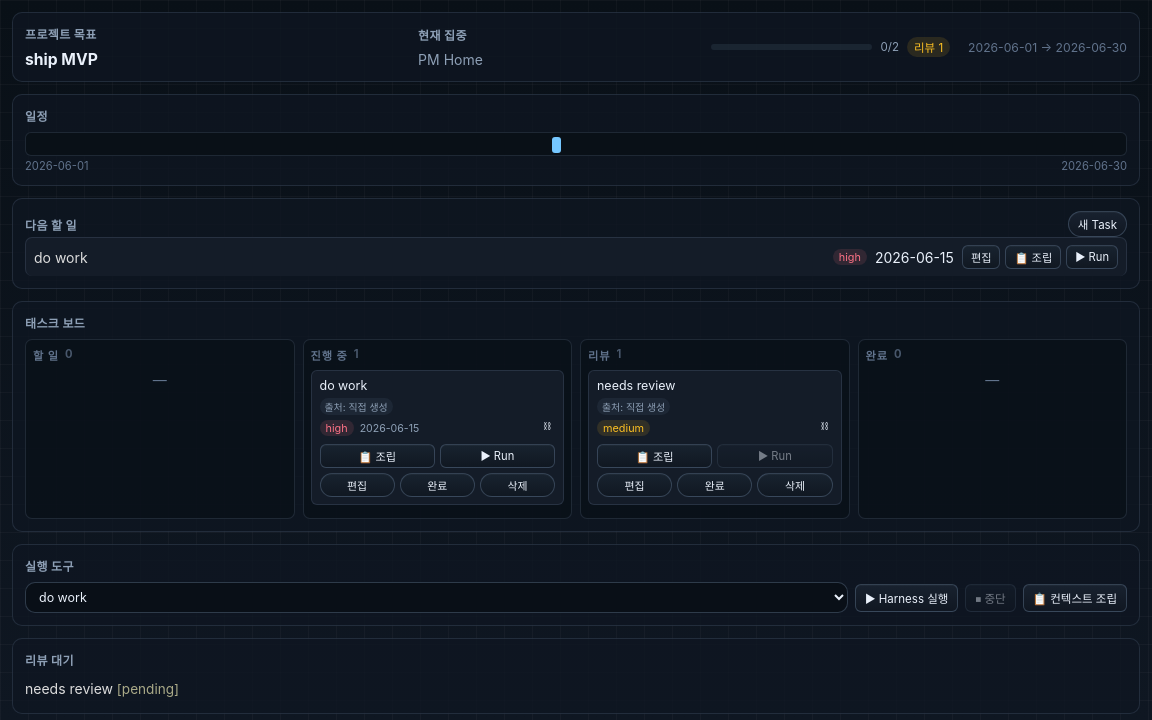
Test case: PmHome › composes the exact 다음 할 일 task without selecting it again
Click the button with aria-label "do work 컨텍스트 조립": (1033, 257) [1006,245,1061,269]
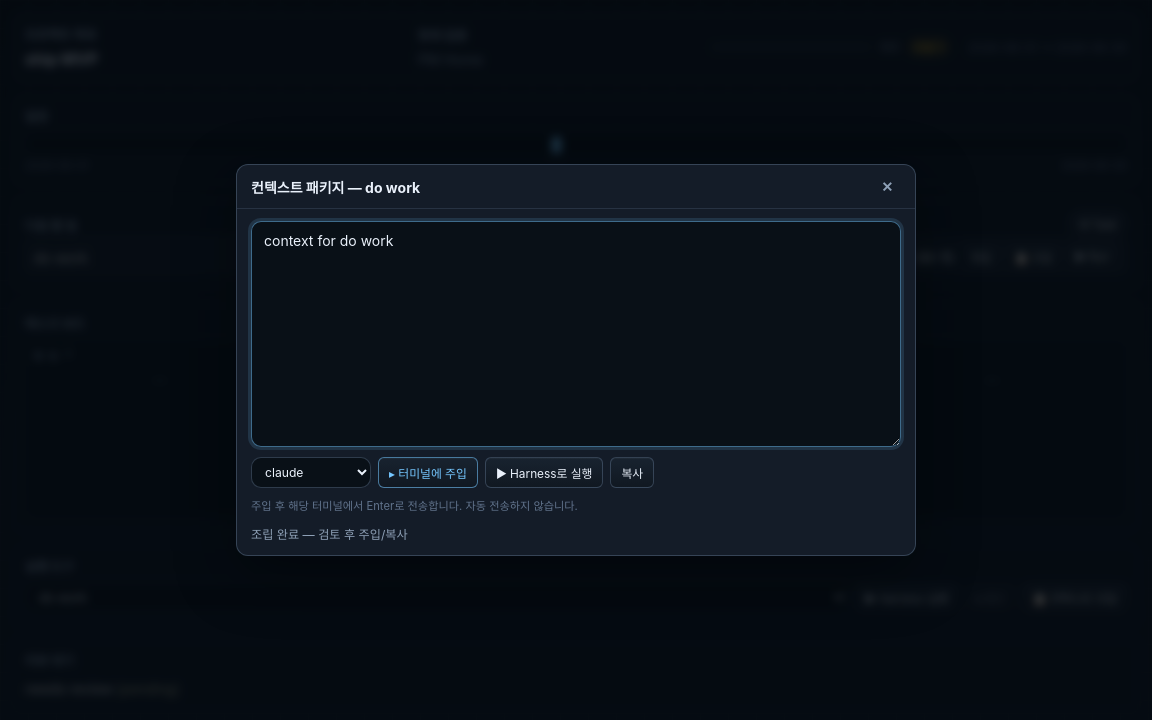
expect the dialog "컨텍스트 패키지 — do work" is shown: met
